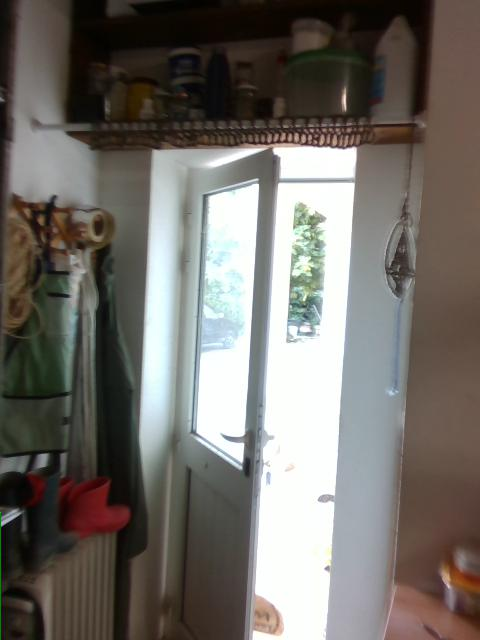semi_door: (159, 141, 356, 639)
